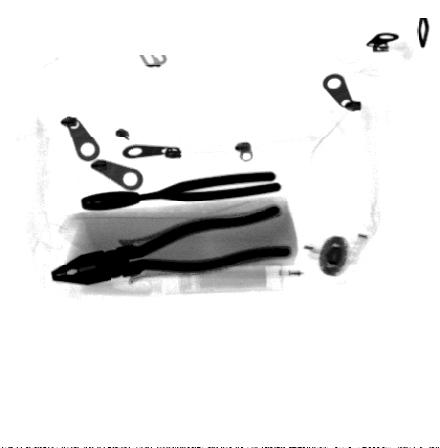Pliers: (49, 204, 294, 286), (80, 172, 283, 212)
